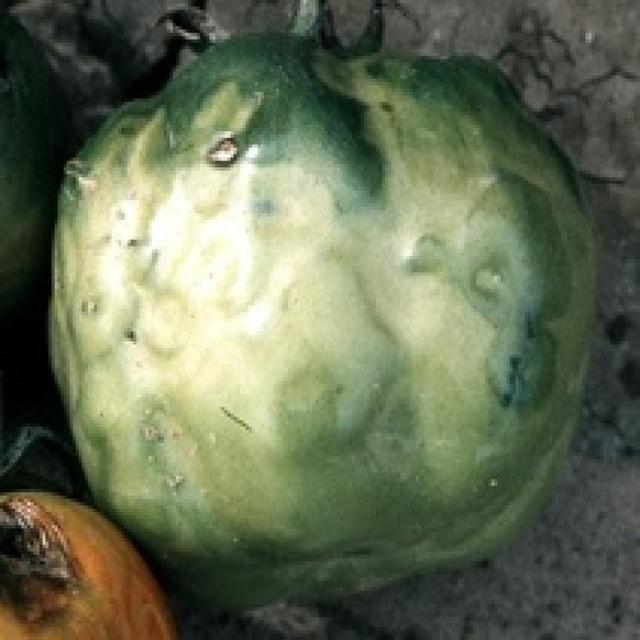Spotted wilt Virus Fruit: (59, 13, 99, 127)
